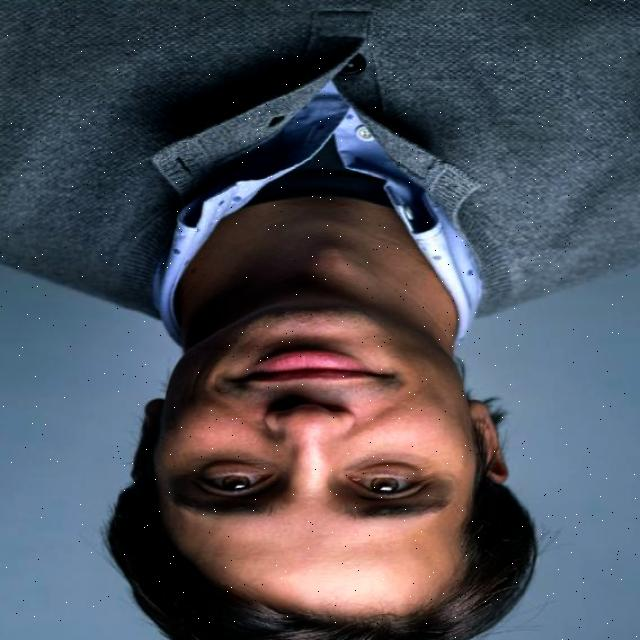puffy_eyes: (181, 458, 269, 474), (353, 460, 428, 475)
